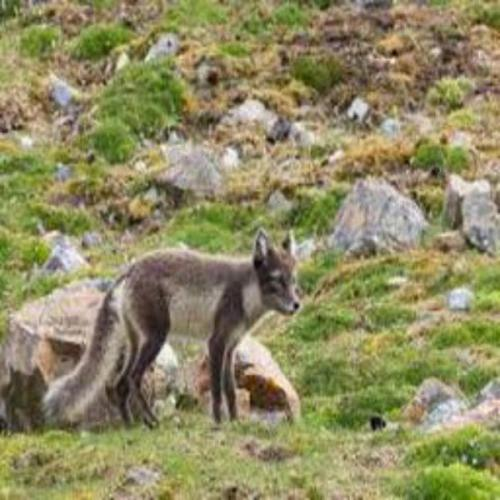arctic_fox-endangered: (43, 229, 302, 429)
